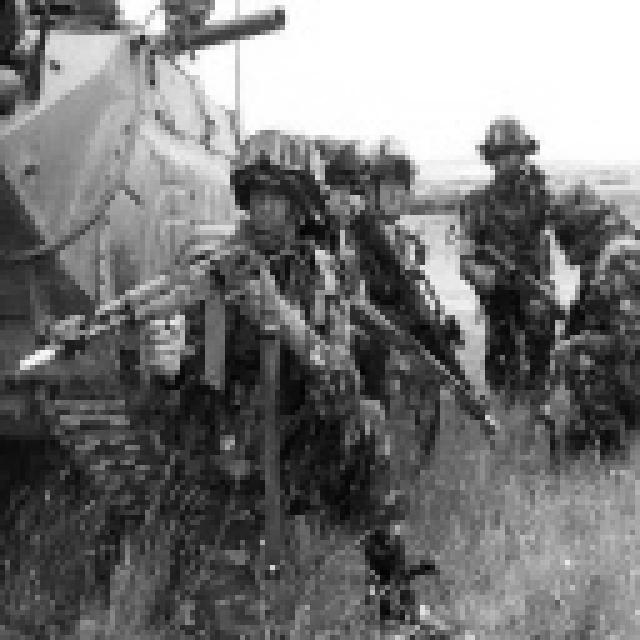Rifle: (0, 198, 320, 430), (317, 217, 501, 468), (447, 202, 607, 378)
